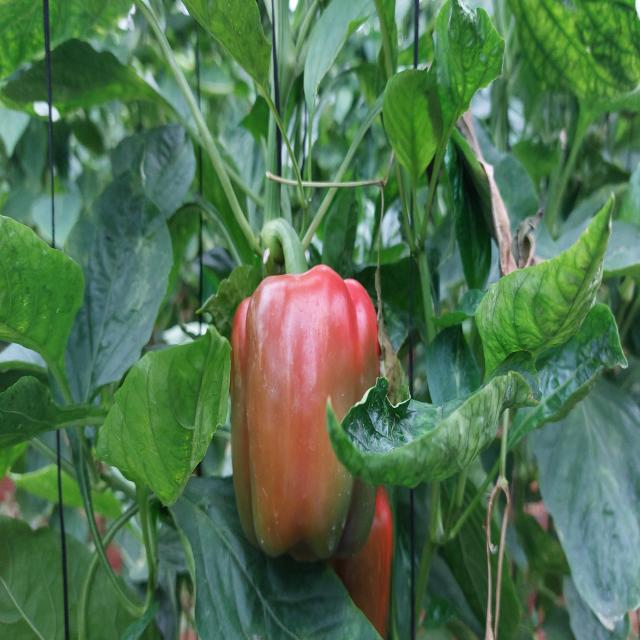BrownishRed--Can-be-Harvested: (224, 270, 386, 568)
